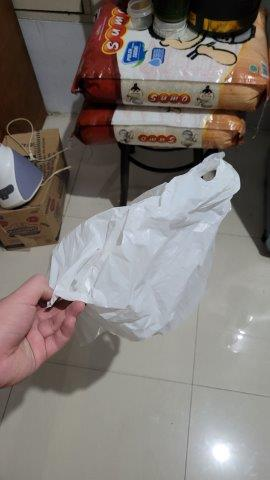plastik: (50, 152, 238, 340)
